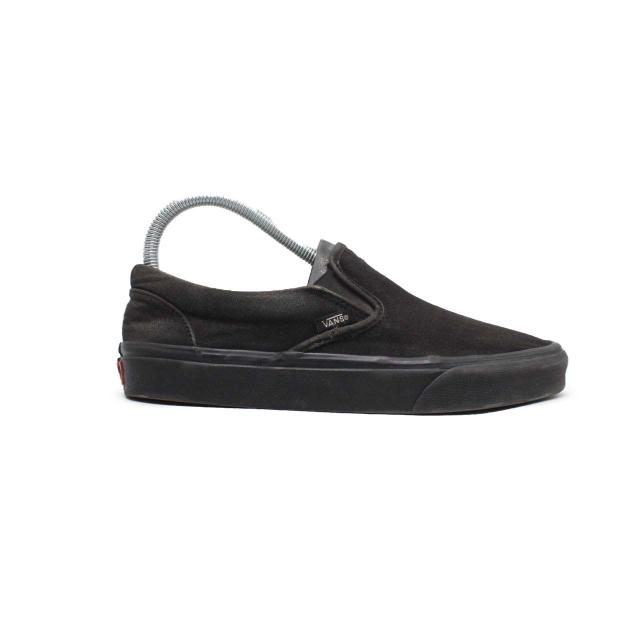heel: (121, 263, 197, 344)
midsole: (119, 344, 563, 416)
uppersole: (195, 243, 554, 354)
